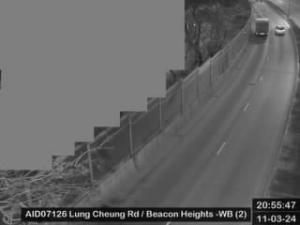truck: (254, 16, 270, 36)
vehicle: (274, 25, 286, 35)
